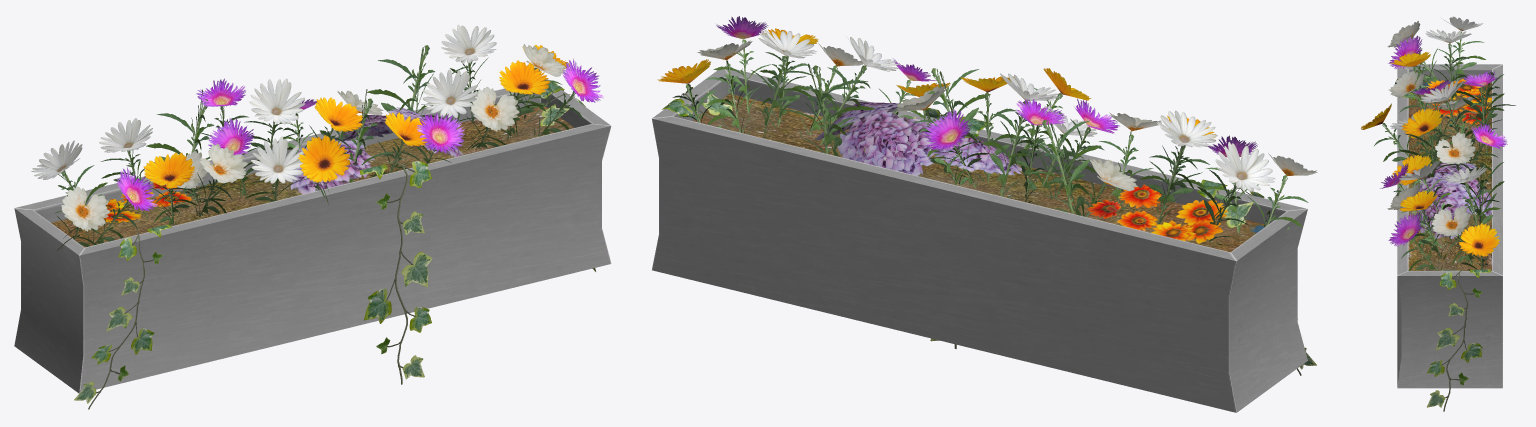
File: SM_Flower_Box_03.glb
3 renders of one model, left to right at view 1: azimuth 30°, elevation 25°; view 2: azimuth 150°, elevation 25°; view 3: azimuth 270°, elevation 25°, orthographic. The views are drawn at different scales.
Visible parts, largest first — view 1: SM_Flower_Box_03; view 2: SM_Flower_Box_03; view 3: SM_Flower_Box_03.
Part boxes in pixels (box(x1,y1,x2,y2)): SM_Flower_Box_03: box(14, 24, 611, 409); SM_Flower_Box_03: box(652, 16, 1317, 412); SM_Flower_Box_03: box(1361, 16, 1515, 411).
Bounding box in the file's own units: 1.53 × 0.7839 × 0.4833.
Materials: 1 (1 with a texture image).
